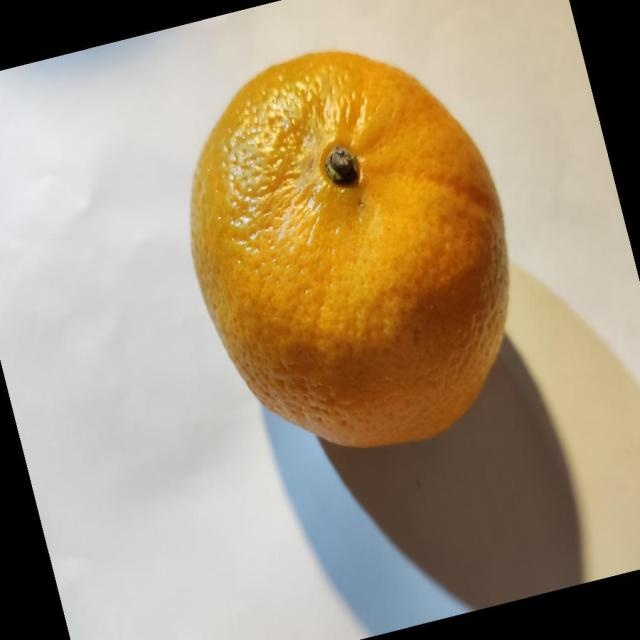agrume: (188, 49, 510, 449)
